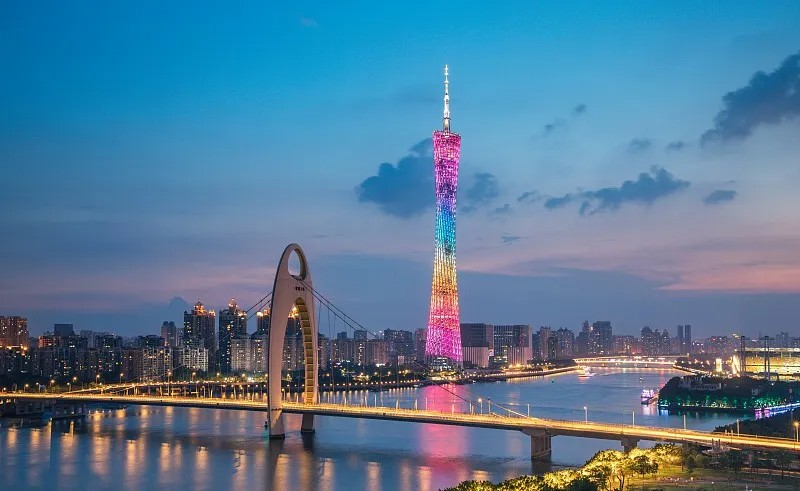Canton: (425, 62, 469, 371)
